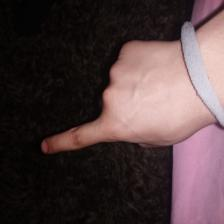one: (38, 38, 175, 160)
